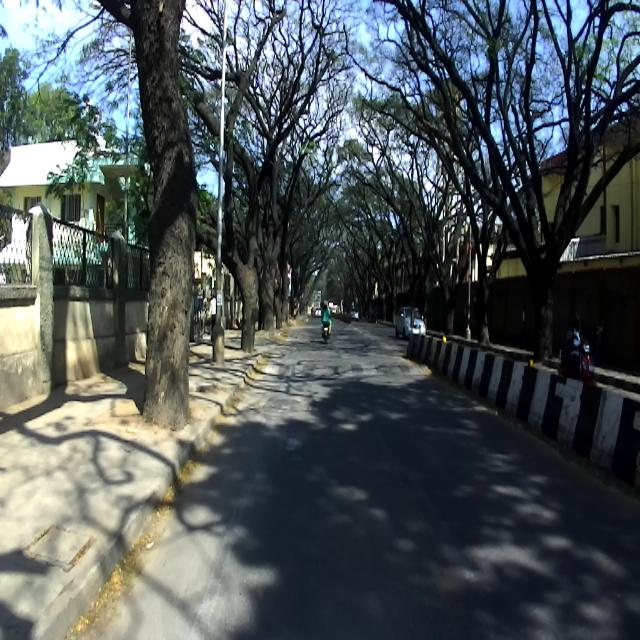tree ahead at: (106, 0, 202, 438)
